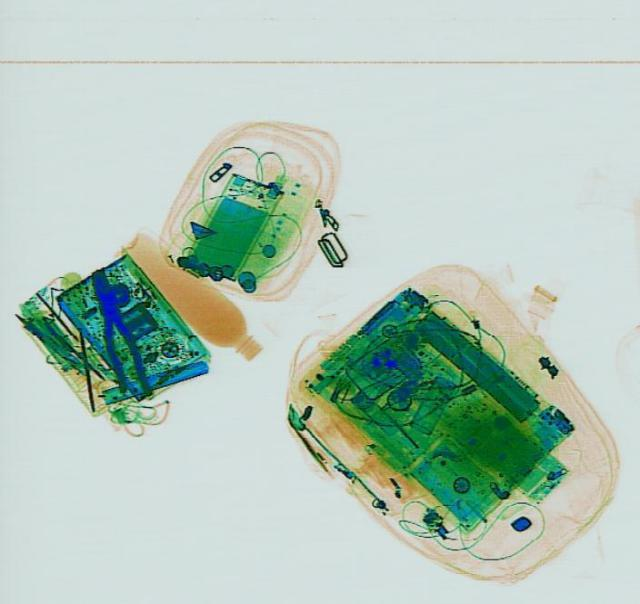Pliers: (78, 263, 154, 401)
